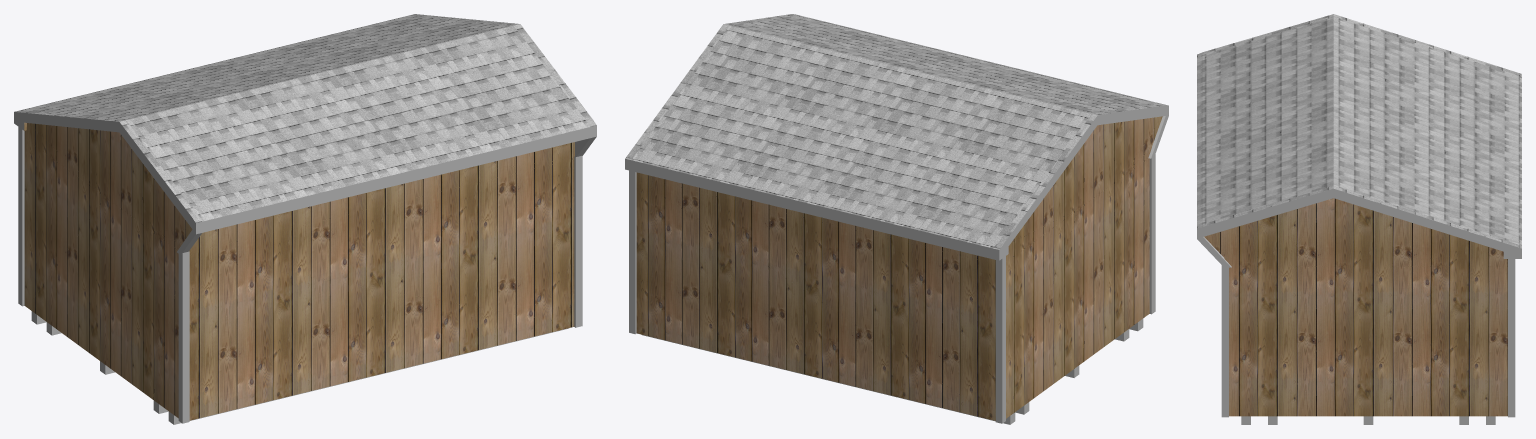
File: Quaker Sheds_10x14.obj
3 renders of one model, left to right at view 1: azimuth 30°, elevation 25°; view 2: azimuth 150°, elevation 25°; view 3: azimuth 270°, elevation 25°, orthographic. The views are drawn at different scales.
Parts seen in each view (by area): view 1: Shed, Roof, Sides, Trim, Floor; view 2: Shed, Roof, Sides, Trim, Floor; view 3: Roof, Shed, Sides, Trim, Floor.
Part boxes in pixels (x1,y1,x2,y2): Shed: (24,122,574,420); Roof: (14,14,596,222); Sides: (14,112,596,254); Trim: (18,127,582,423); Floor: (31,311,569,424); Shed: (636,116,1162,420); Roof: (625,14,1166,249); Sides: (625,105,1168,260); Trim: (629,154,1155,423); Floor: (641,319,1143,424); Roof: (1197,14,1521,248); Shed: (1204,198,1507,416); Sides: (1197,188,1521,267); Trim: (1221,259,1515,417); Floor: (1241,416,1495,424).
Bounding box in the file's own units: 4.33 × 2.74 × 3.4.
